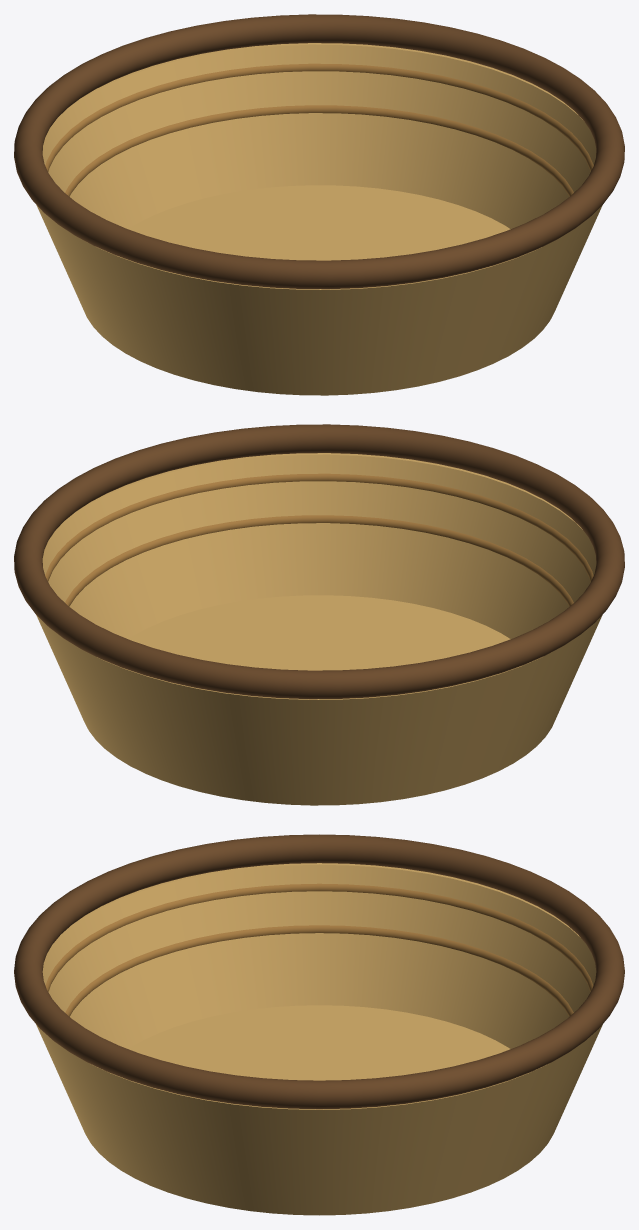
Rendered from basket.glb.
The picture shows the model from 3 angles, top to bottom: view 1: azimuth 30°, elevation 25°; view 2: azimuth 150°, elevation 25°; view 3: azimuth 270°, elevation 25°; orthographic projection.
Visible parts, largest first — view 1: body, rim, band2, band1; view 2: body, rim, band2, band1; view 3: body, rim, band2, band1.
Part boxes in pixels (bbox=[...]): body: bbox=[36, 43, 602, 395]; rim: bbox=[14, 14, 624, 289]; band2: bbox=[45, 63, 593, 171]; band1: bbox=[65, 105, 573, 196]; body: bbox=[36, 453, 602, 805]; rim: bbox=[14, 424, 624, 699]; band2: bbox=[45, 473, 593, 581]; band1: bbox=[65, 515, 573, 606]; body: bbox=[36, 863, 602, 1215]; rim: bbox=[14, 834, 624, 1109]; band2: bbox=[45, 883, 593, 991]; band1: bbox=[65, 925, 573, 1016].
Size of the model in its own units: 1.28 by 0.36 by 1.28.
